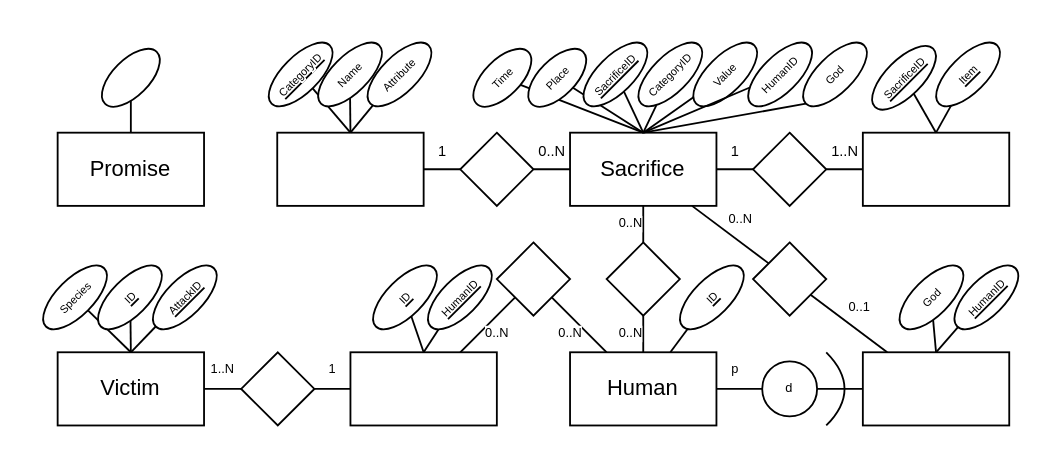
Some shapes in this 1061 by 458 pixel diagram are drawn without their labels. Each missing label, with the box of its shape:
Assailant in: (495, 241, 570, 316)
Attack: (349, 350, 497, 425)
Contains: (751, 131, 826, 206)
Description: (90, 37, 170, 117)
Is one of: (458, 131, 533, 206)
Makes: (605, 241, 680, 316)
of: (239, 350, 314, 425)
Precided over by: (751, 241, 826, 316)
Priest: (861, 350, 1009, 425)
Sacrifice-Categories: (275, 131, 424, 206)
SacrificeItems: (861, 131, 1009, 206)
